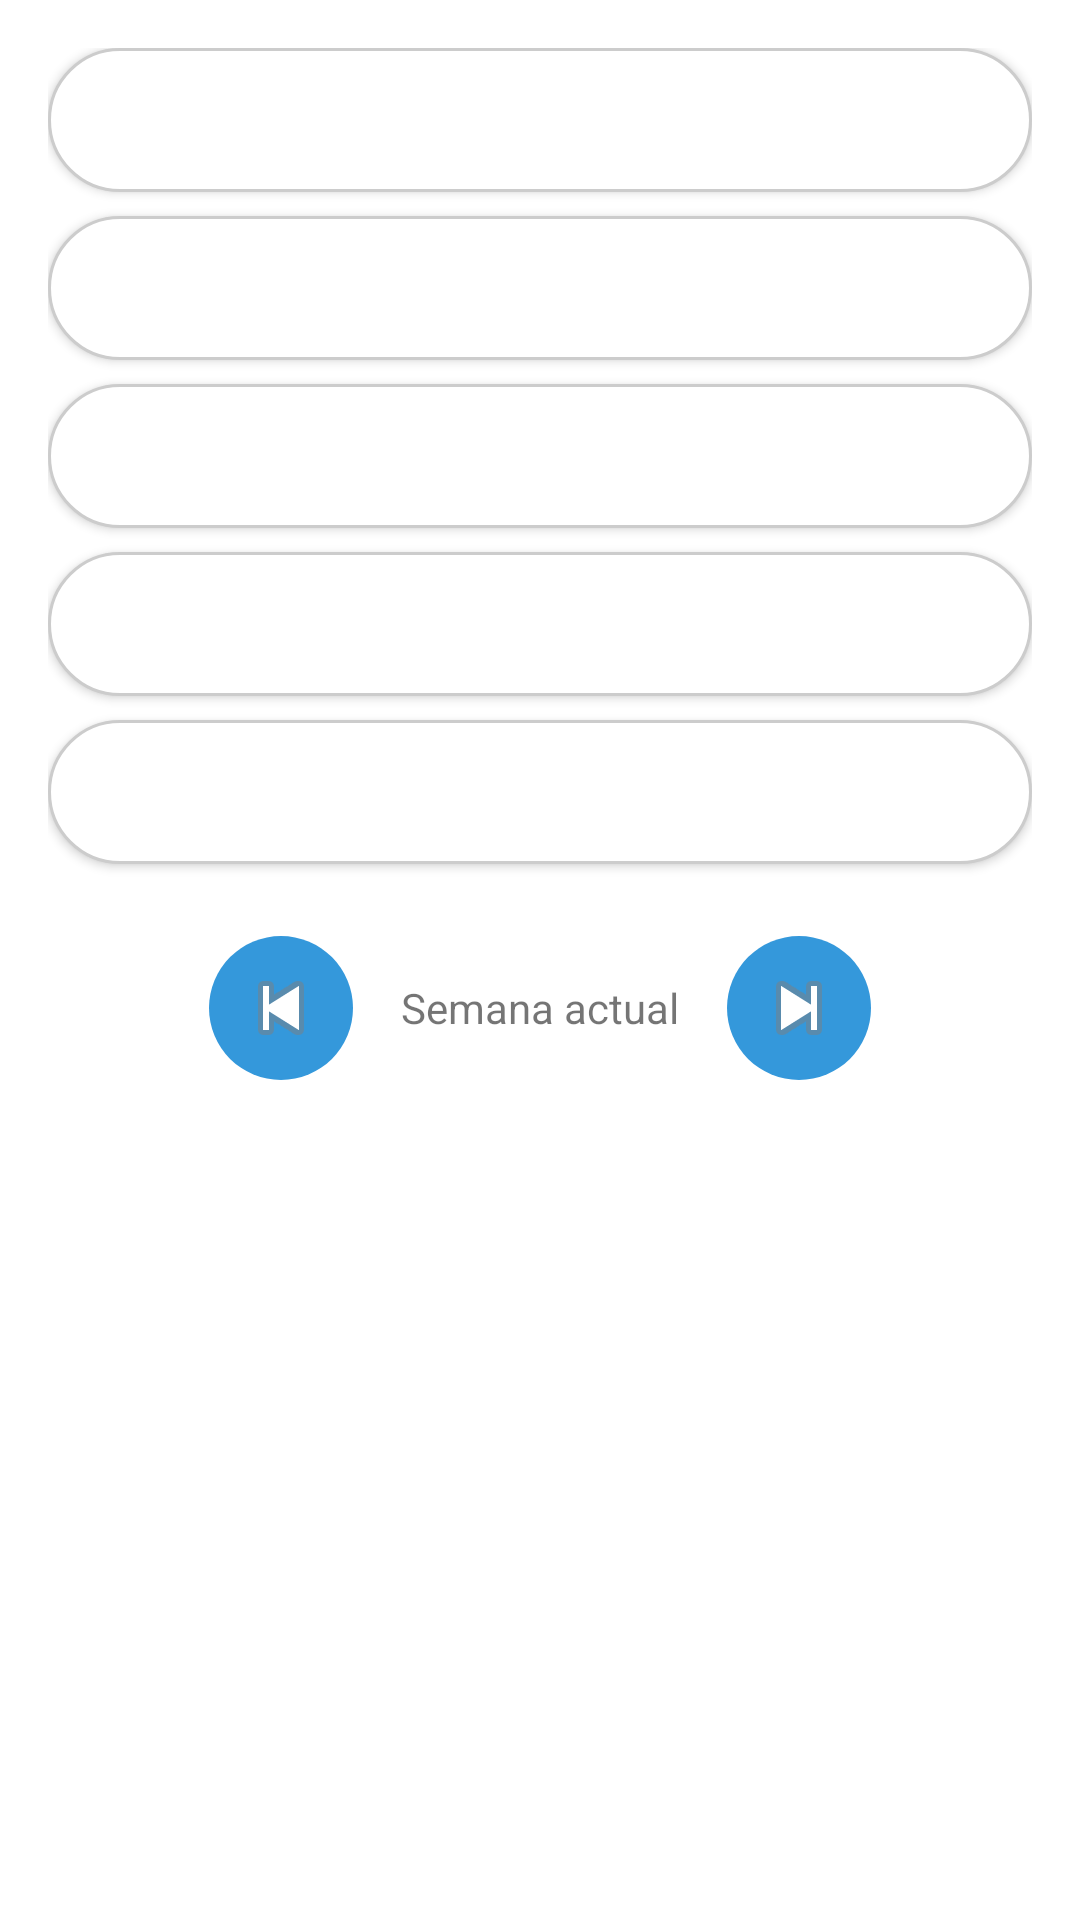

Where to tap for icons on this 1080px×1920px app screen, as point (x, y):
Next week: point (799, 1008)
Previous week: point (281, 1008)
